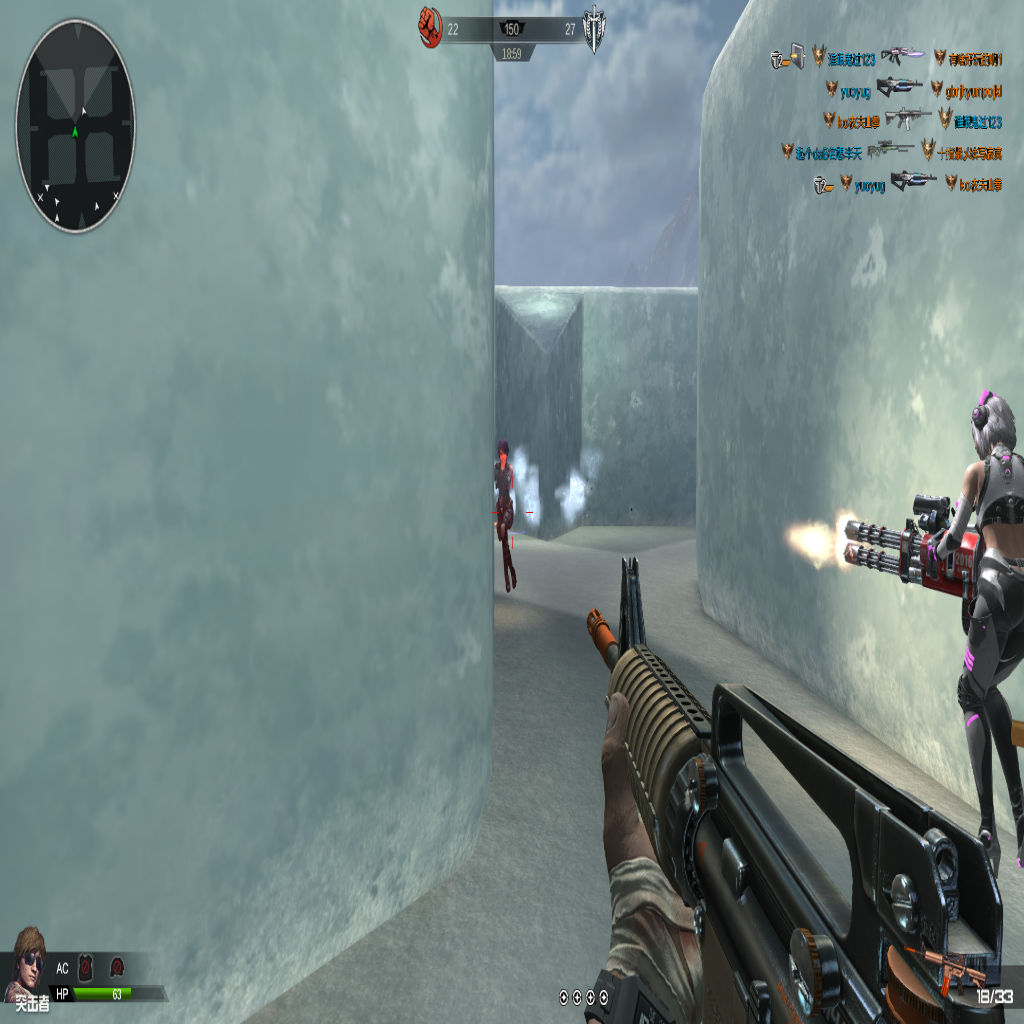ct: (493, 443, 517, 591)
tt: (932, 396, 1020, 896)
